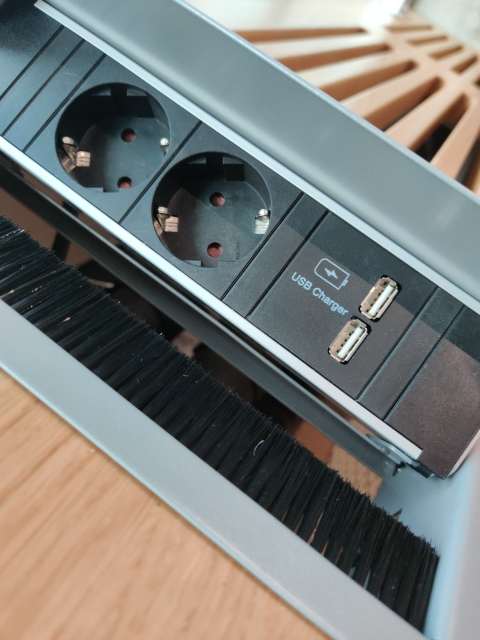USB: (358, 275, 402, 321), (327, 318, 370, 364)
